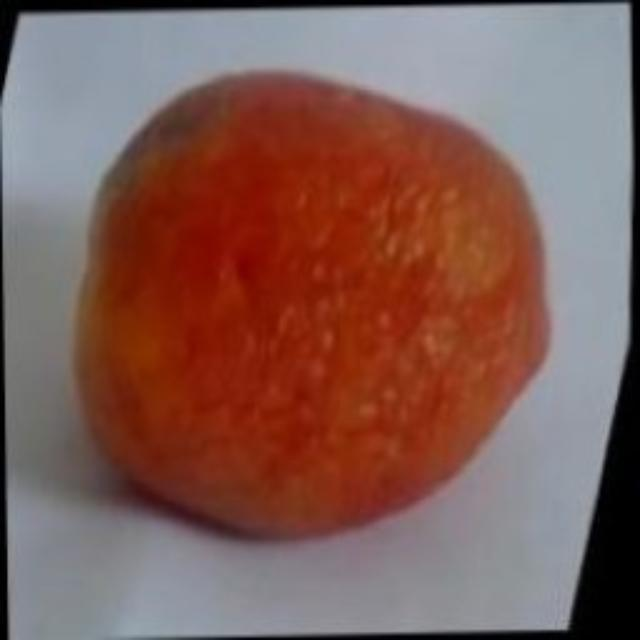defect: (77, 69, 555, 544)
